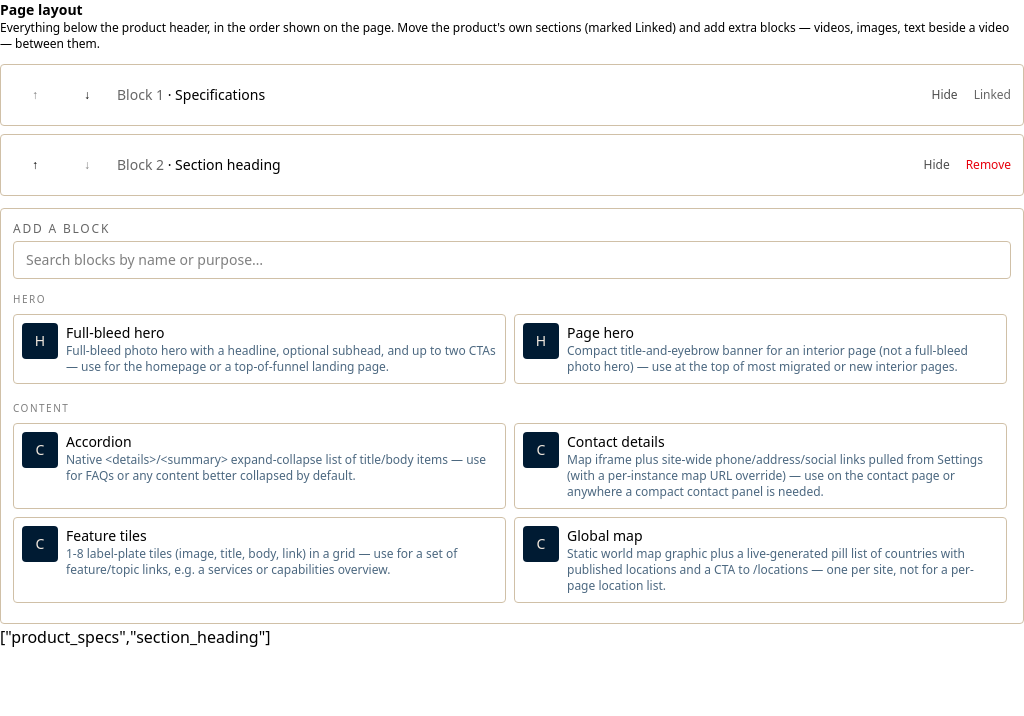
Test case: ProductBlocksField — linked sections › a linked section can be hidden and moved but not removed, and says where its data is edited
expect the number of buttons "Remove" is 1: met, box [966,149,1011,181]
expect the text "Linked" is shown: met, box [974,87,1011,103]
Click the 1st button "↓" at (87, 95), box [65,73,109,117]
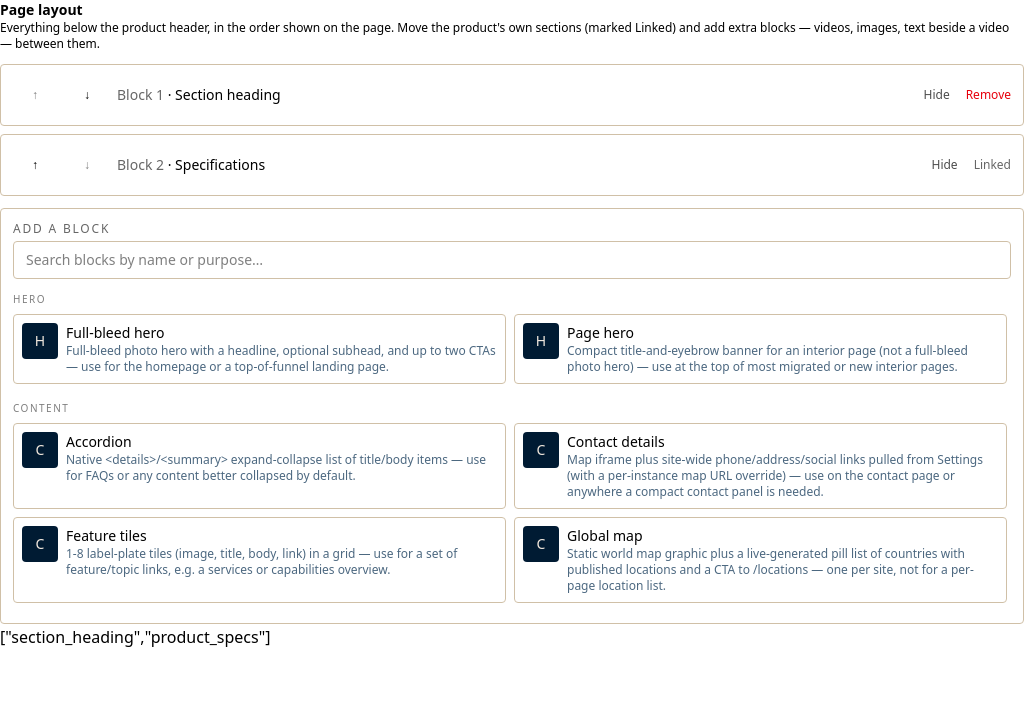
expect the text with test id "types" reads "[\"section_heading\",\"product_specs\"]": met, box [0,626,270,648]
Click the button "Block 2 · Specifications" at (137, 164), box [117,155,924,175]
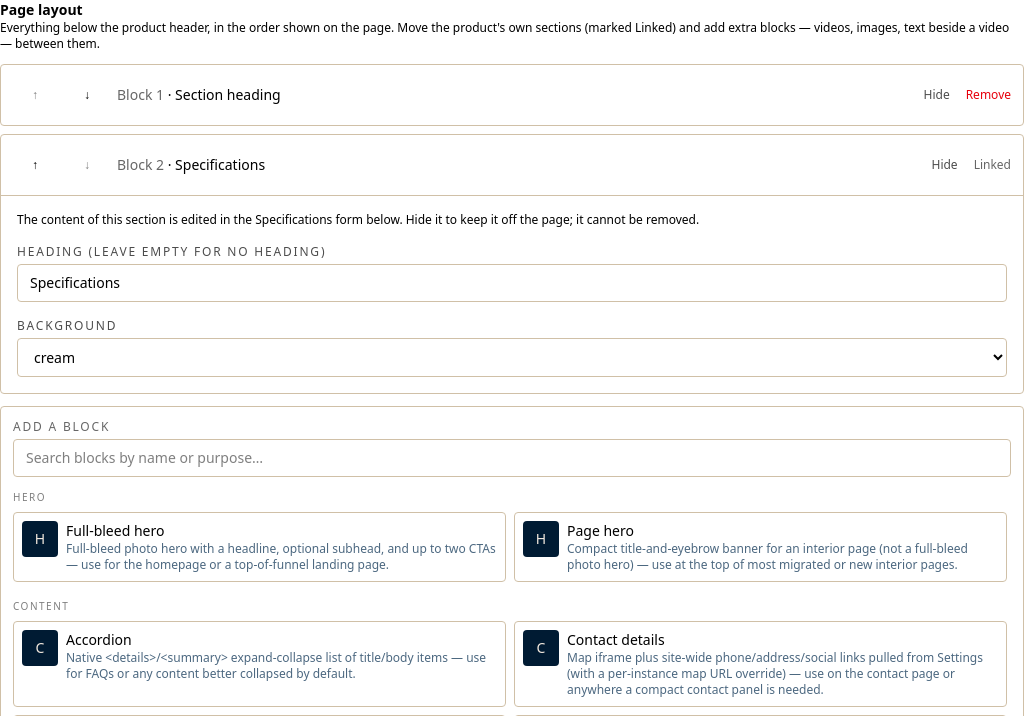
expect the text "edited in the Specifications form below" is shown: met, box [17,211,699,228]
expect the field labelled "Heading (leave empty for no heading)" is shown: met, box [17,264,1007,302]
